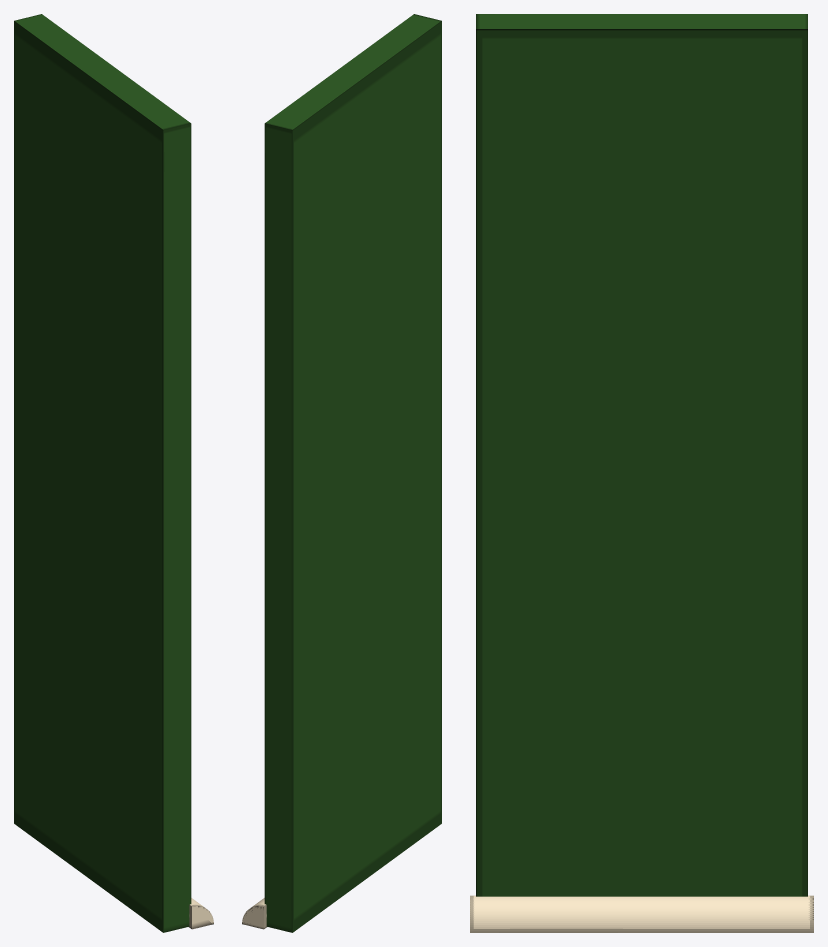
Rendered from Wall.fbx.
The picture shows the model from 3 angles, left to right: view 1: azimuth 30°, elevation 25°; view 2: azimuth 150°, elevation 25°; view 3: azimuth 270°, elevation 25°; orthographic projection. The views are drawn at different scales.
Parts seen in each view (by area): view 1: Wall; view 2: Wall; view 3: Wall.
Boxes of the visible parts, box(x1,y1,x2,y2) form: Wall: box(14, 14, 213, 932); Wall: box(242, 14, 441, 932); Wall: box(470, 14, 813, 932).
Bounding box in the file's own units: 87.34 × 1402 × 489.
